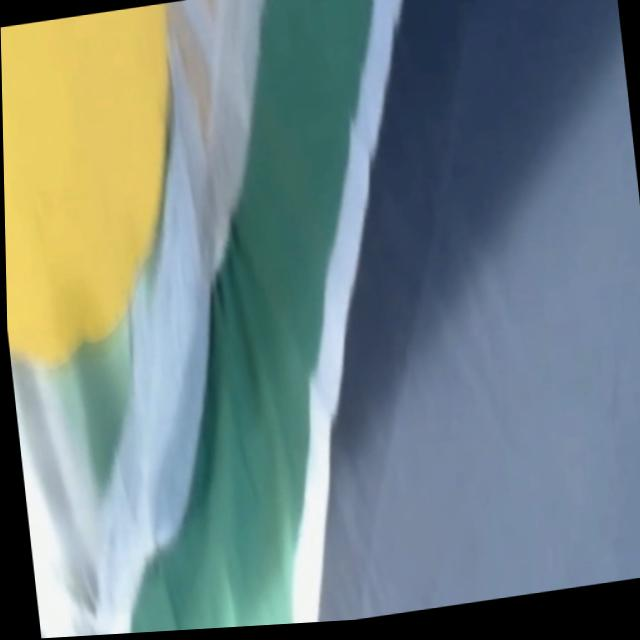right: (293, 0, 401, 623)
